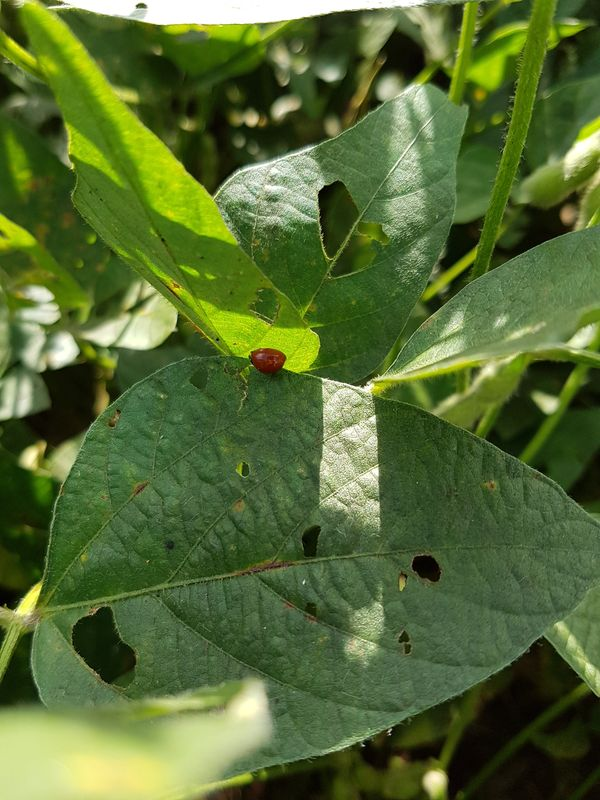Coccinellidae: (240, 340, 294, 384)
